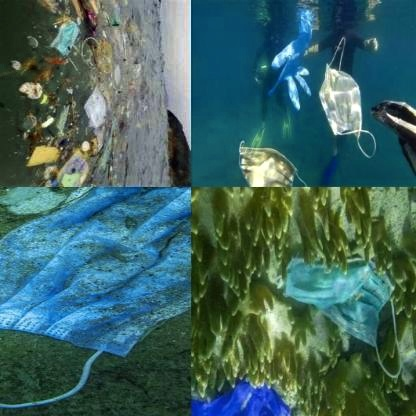Mask: (0, 187, 190, 412), (273, 238, 404, 384), (319, 35, 379, 161), (238, 138, 310, 186), (47, 16, 83, 56)
glove: (267, 5, 316, 112), (192, 372, 295, 415)
